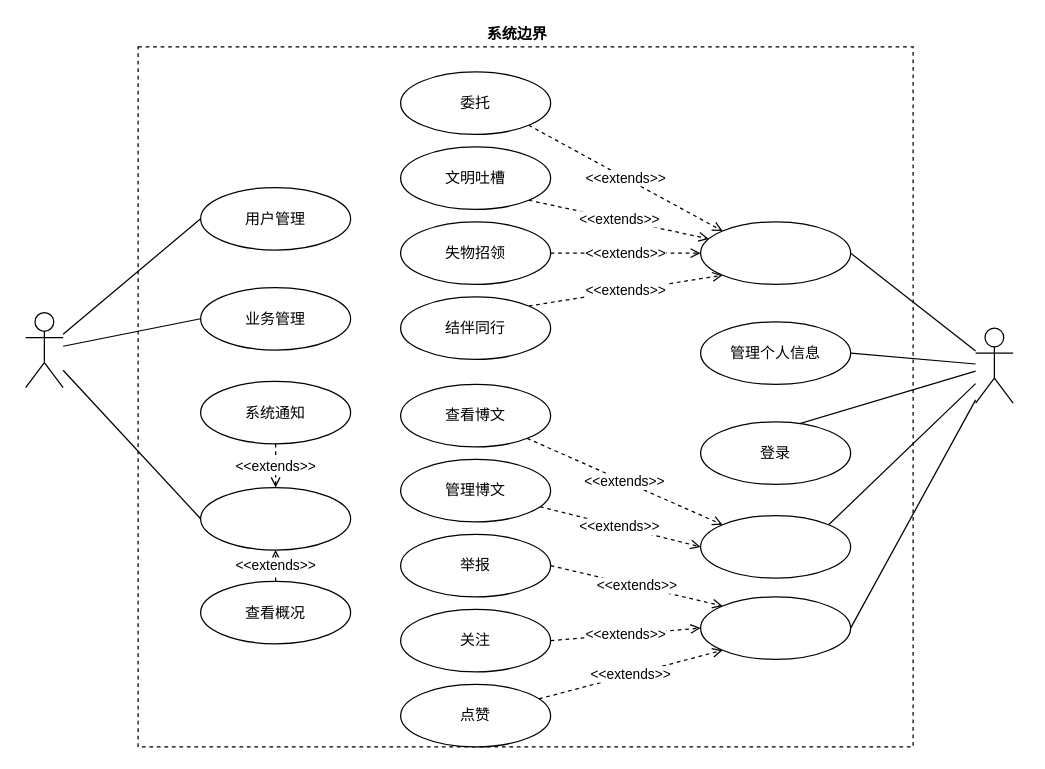
Some shapes in this 1045 by 769 pixel diagram are drawn without their labels. The shapes that lost their labels are listed below. From the top down, each one's box as (x1, y1, x2, y2) in pixels, then its label:
(699, 221, 851, 284): 使用信息发布系统
(24, 311, 63, 388): 管理员
(974, 327, 1013, 403): 普通用户
(199, 486, 351, 550): 系统控制
(699, 514, 851, 578): 使用博客系统
(699, 596, 851, 659): 交互
